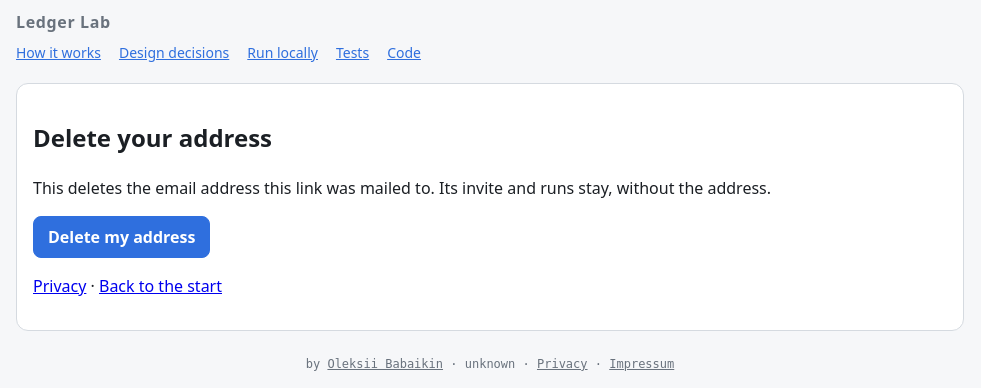
the delete page › names a 404 in its own words
Click the button "Delete my address" at (122, 237), box top-left (33, 216), bottom-right (210, 258)
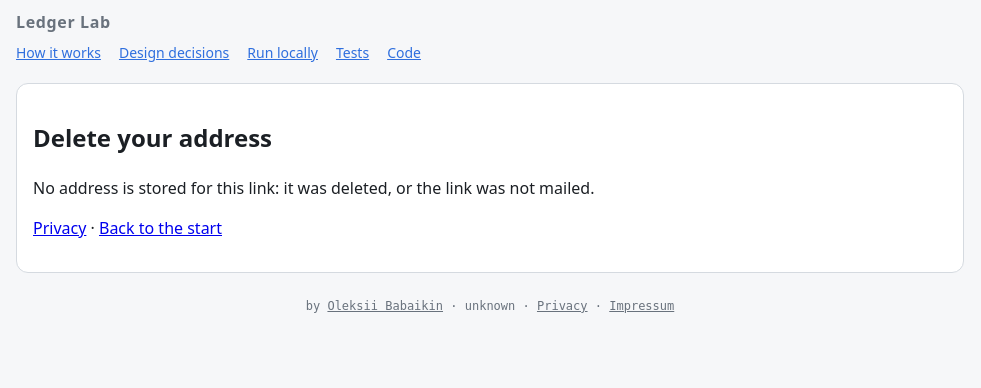
Result: the text "No address is stored for this link: it was deleted, or the link was not mailed." is shown at top-left (33, 177), bottom-right (594, 199)
